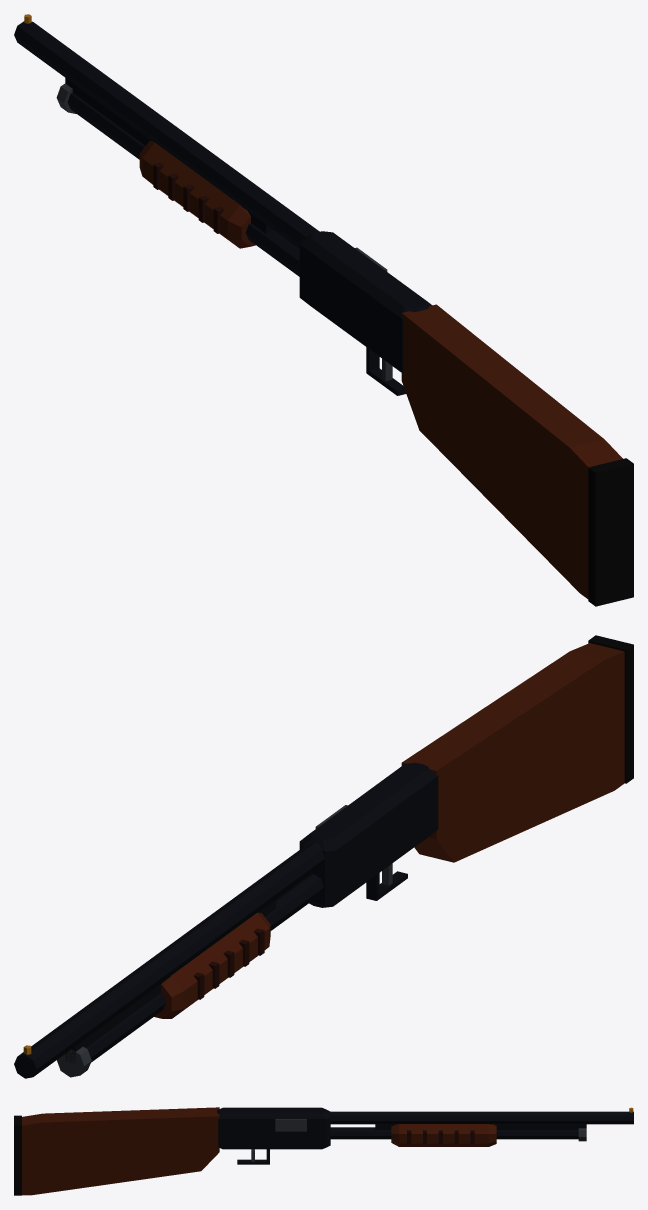
The model's file is NPC_Scavenger_Held.glb.
3 renders of one model, top to bottom at view 1: azimuth 30°, elevation 25°; view 2: azimuth 150°, elevation 25°; view 3: azimuth 270°, elevation 25°, orthographic. The views are drawn at different scales.
Parts seen in each view (by area): view 1: CHR_Scavenger_Shotgun; view 2: CHR_Scavenger_Shotgun; view 3: CHR_Scavenger_Shotgun.
Boxes of the visible parts, left/top/right/bottom form: CHR_Scavenger_Shotgun: left=14, top=14, right=633, bottom=606; CHR_Scavenger_Shotgun: left=14, top=635, right=633, bottom=1078; CHR_Scavenger_Shotgun: left=14, top=1107, right=633, bottom=1195.
Bounding box in the file's own units: 0.054 × 0.172 × 1.18.
Materials: 1 (1 with a texture image).
